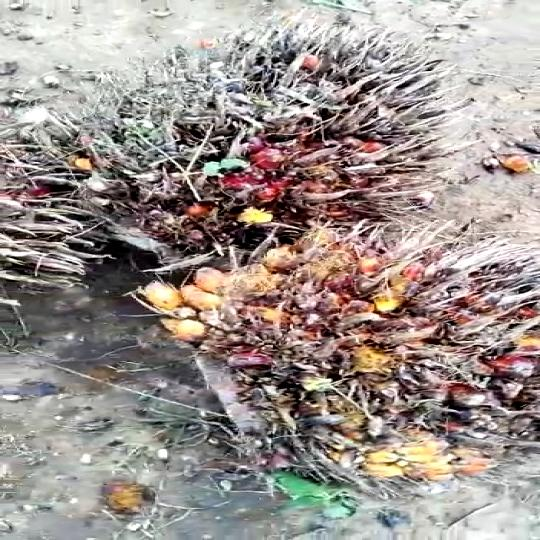terlalu masak: (126, 220, 540, 505), (88, 29, 426, 266)
